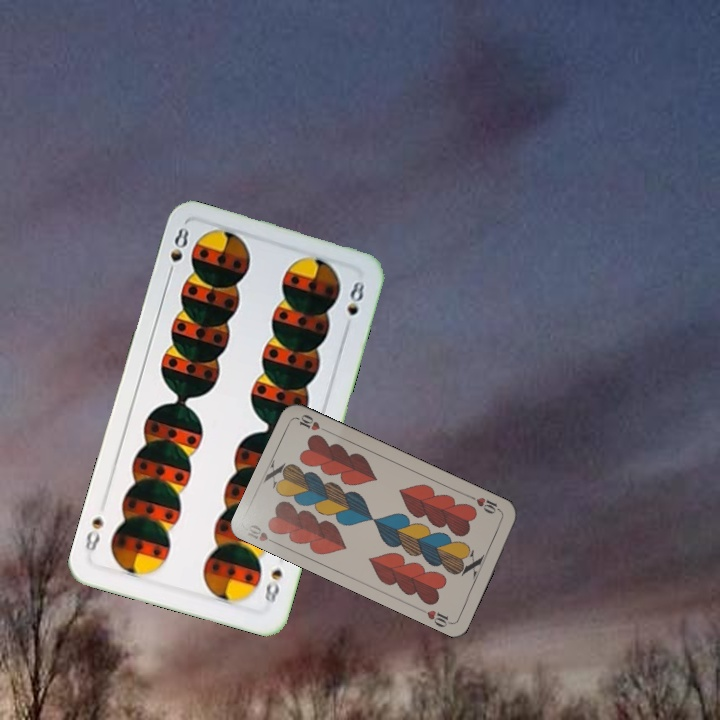H10: (243, 520, 281, 548), (466, 492, 504, 516)
S8: (163, 223, 192, 281), (260, 565, 285, 606)
